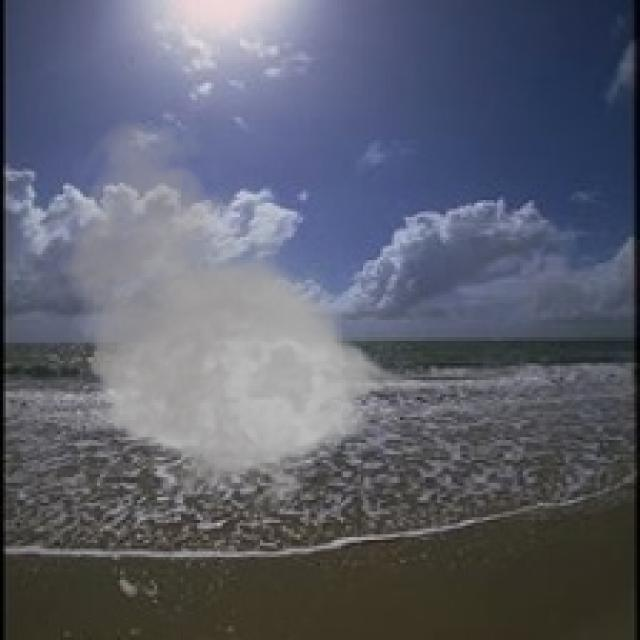Smoke: (49, 114, 432, 523)
